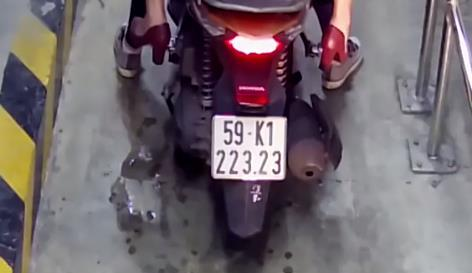lisence: (211, 115, 287, 180)
